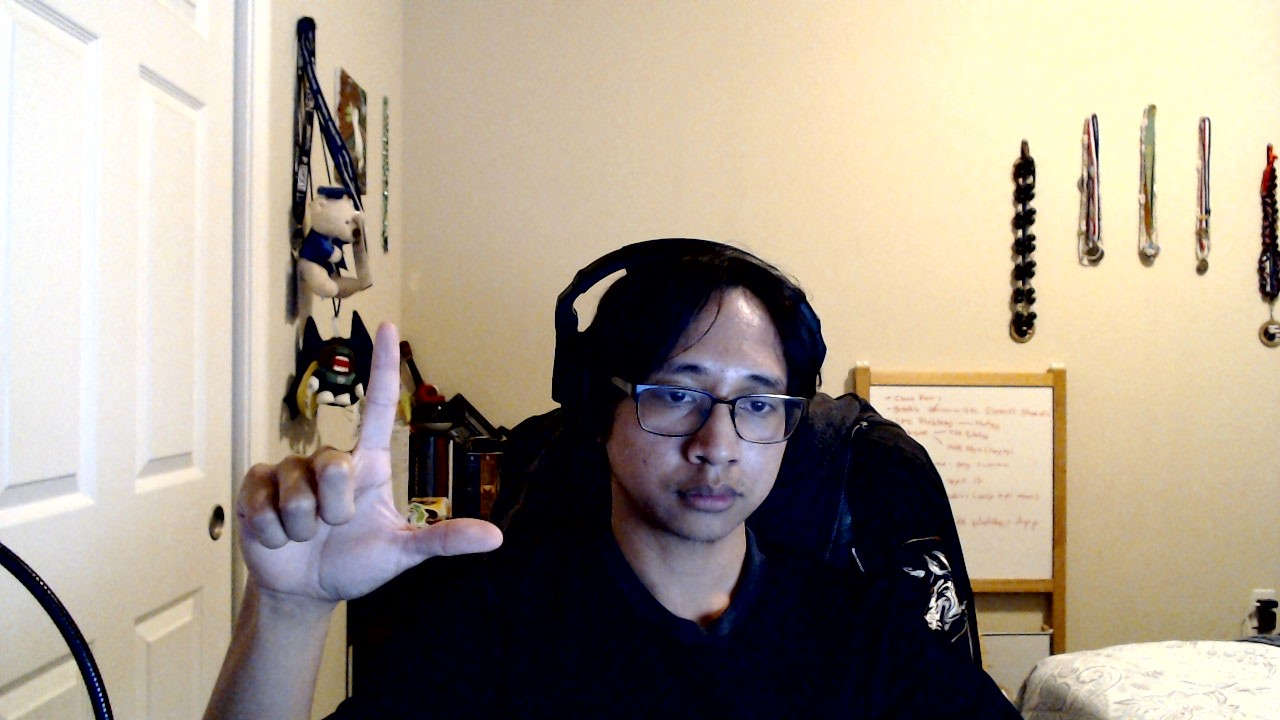l: (236, 319, 505, 602)
